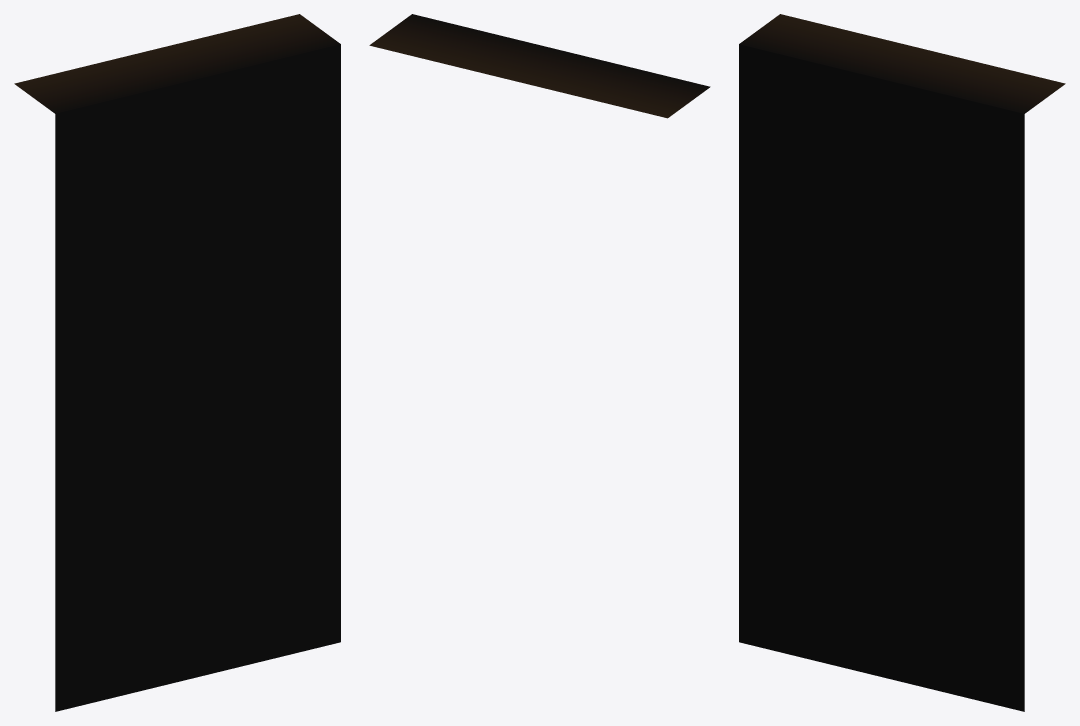
3 renders of one model, left to right at view 1: azimuth 30°, elevation 25°; view 2: azimuth 150°, elevation 25°; view 3: azimuth 330°, elevation 25°, orthographic. The views are drawn at different scales.
Bounding box in the file's own units: 1 × 2 × 0.25.
Materials: 1 (1 with a texture image).
